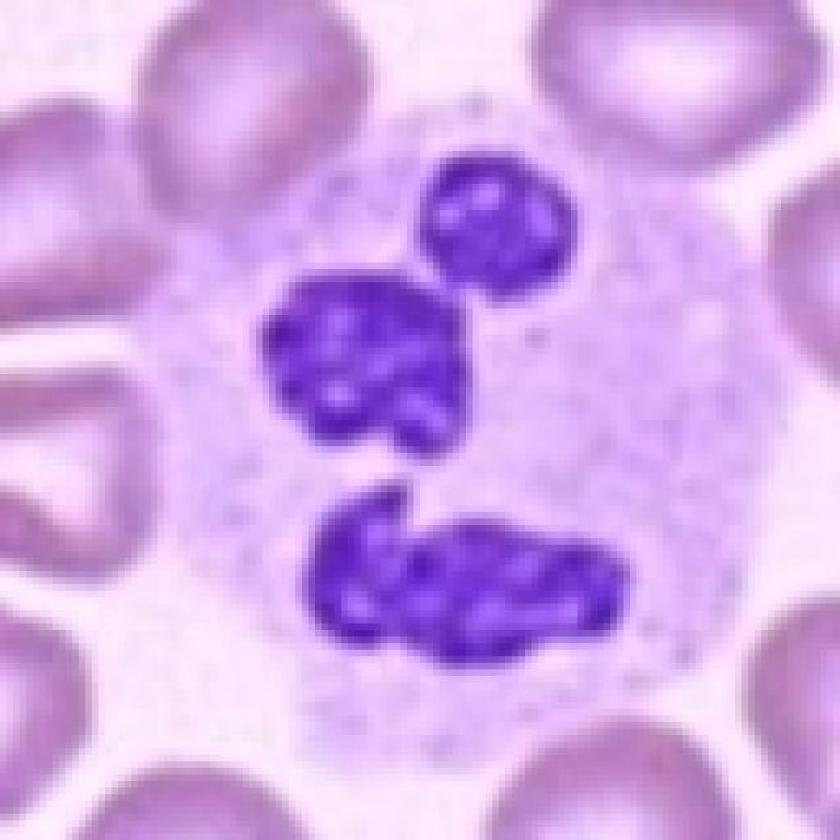neutrophil: (131, 98, 800, 782)
